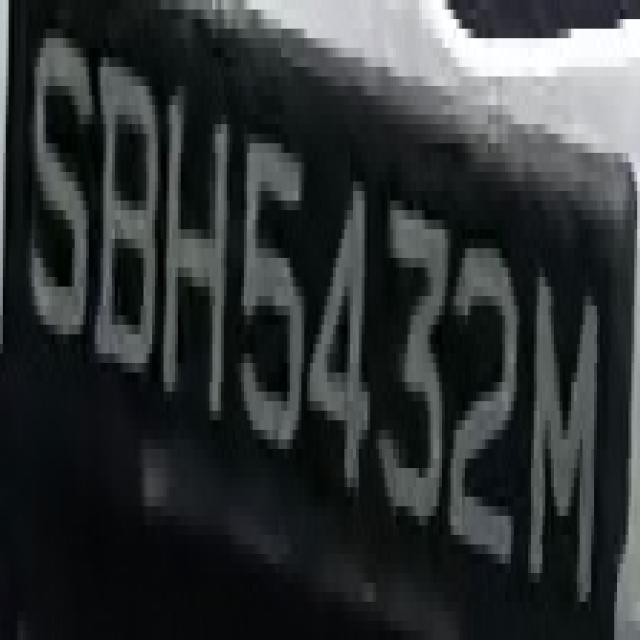2: (450, 219, 520, 602)
3: (376, 182, 451, 506)
4: (307, 153, 382, 516)
5: (235, 86, 310, 478)
B: (98, 48, 164, 382)
H: (170, 48, 236, 430)
M: (522, 239, 608, 630)
S: (31, 0, 92, 344)
